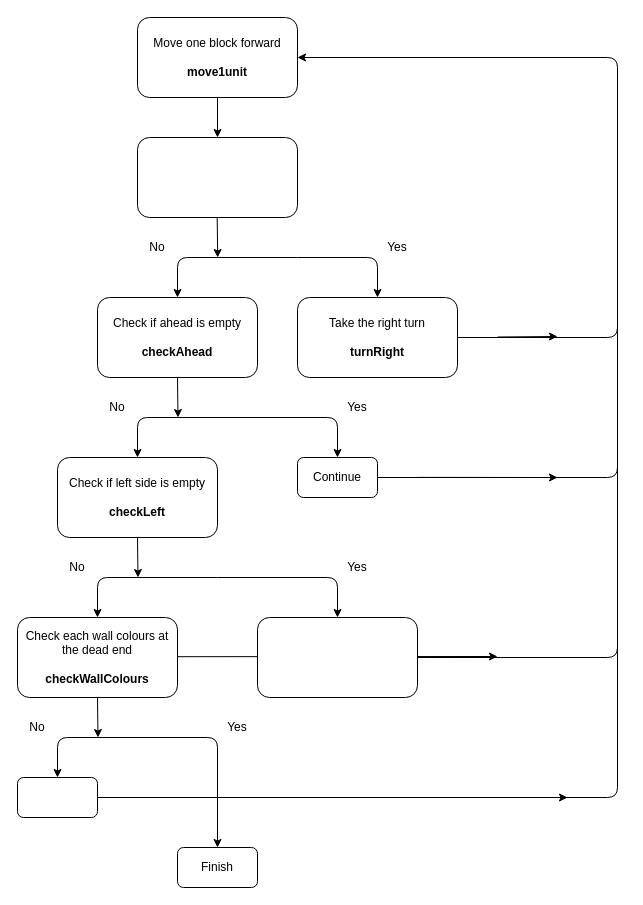
Image size: 643x905. Some labels were removed from this diagram. The shapes that lost their labels are listed below. From the top down, each one's centre as x and y in pixels, then its label:
At [217,177]: "Check if right side is empty checkRight".
At [337,657]: "Take the left turn turnLeft".
At [57,797]: "turnRight".
